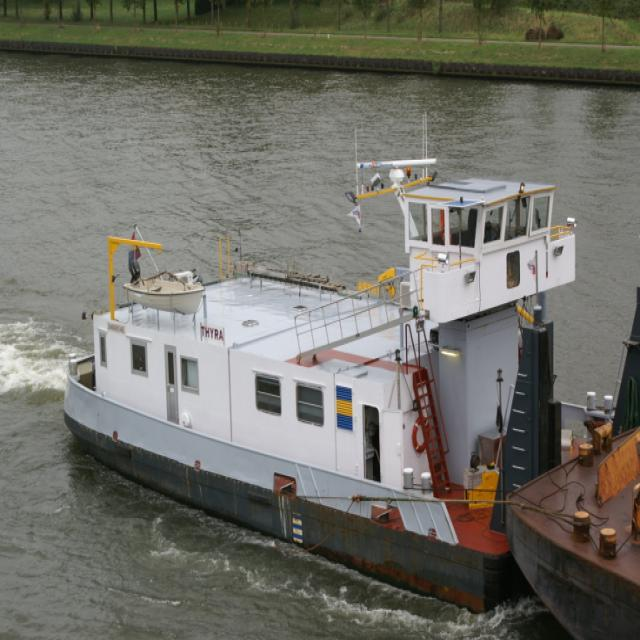tugboat: (60, 108, 640, 628)
